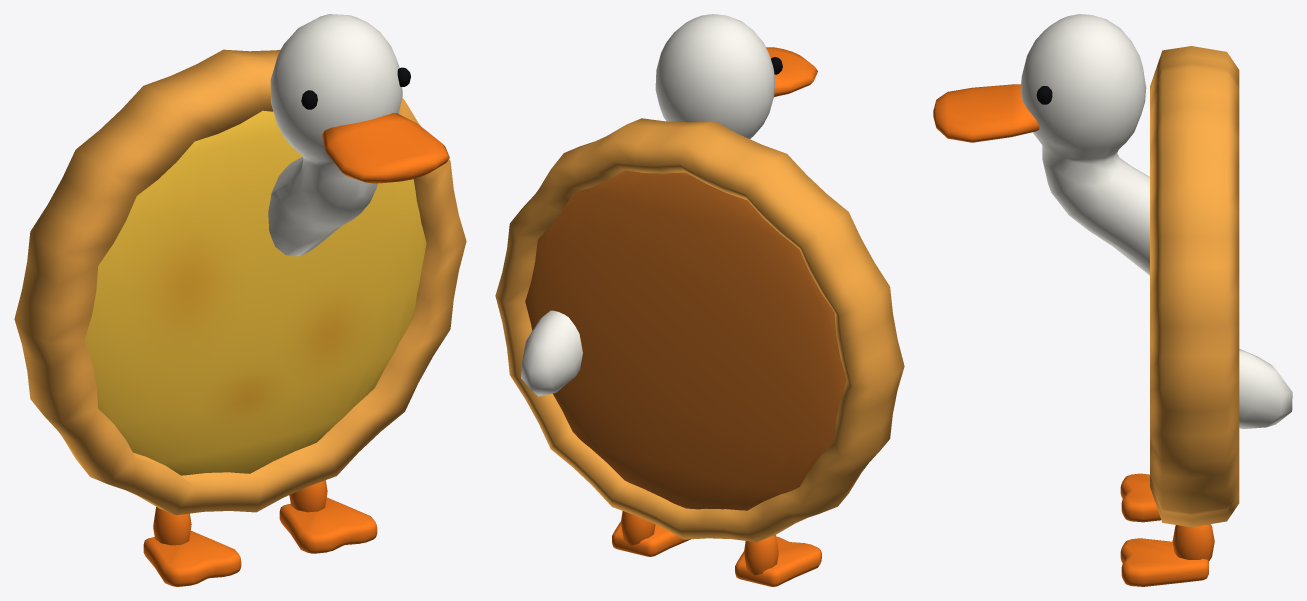
File: duck-eggtart.fbx
3 renders of one model, left to right at view 1: azimuth 30°, elevation 25°; view 2: azimuth 150°, elevation 25°; view 3: azimuth 270°, elevation 25°, orthographic. The views are drawn at different scales.
Parts seen in each view (by area): view 1: duck-eggtart; view 2: duck-eggtart; view 3: duck-eggtart.
Boxes of the visible parts, box(x1,y1,x2,y2) form: duck-eggtart: box(14, 14, 466, 586); duck-eggtart: box(495, 14, 904, 586); duck-eggtart: box(933, 14, 1292, 586).
Size of the model in its own units: 80.85 by 100 by 60.3.
1 material, 1 textured.
